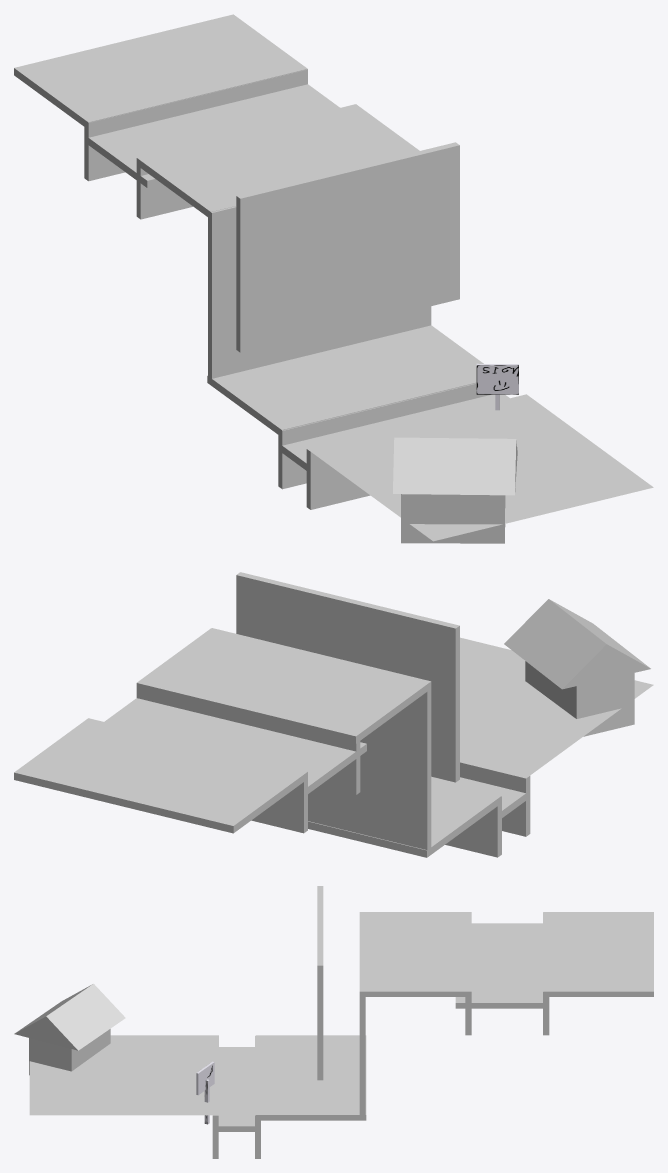
File: ExportedBlenderFBXFile.fbx
3 views of the same model, one above another, from view 1: azimuth 30°, elevation 25°; view 2: azimuth 150°, elevation 25°; view 3: azimuth 270°, elevation 25° (orthographic). The views are drawn at different scales.
Visible parts, largest first — view 1: Cube.005, Plane, Cube.010, Cube.003, Cube.006, Cube.004, Cube.007, Cylinder, Cube.011, Cube.008, Cube.001, Cube.002 (+3 smaller); view 2: Cube.006, Cube.010, Cube.005, Plane, Cube.004, Cube.007, Cylinder, Cube.003, Cube.011, Cube.009, Cube, Cube.001 (+2 smaller); view 3: Plane, Cube.010, Cube.006, Cube.003, Cube.007, Cylinder, Cube.002, Cube.011, Cube.005, Cube.004, Cube.012.
Part boxes in pixels (bbox=[...]): Cube.005: bbox=[236, 142, 459, 352]; Plane: bbox=[306, 394, 653, 541]; Cube.010: bbox=[14, 14, 307, 126]; Cube.003: bbox=[207, 325, 483, 434]; Cube.006: bbox=[136, 104, 419, 216]; Cube.004: bbox=[208, 206, 431, 378]; Cube.007: bbox=[84, 84, 339, 188]; Cylinder: bbox=[393, 437, 517, 495]; Cube.011: bbox=[401, 494, 505, 543]; Cube.008: bbox=[84, 69, 307, 181]; Cube.001: bbox=[278, 383, 490, 489]; Cube.002: bbox=[282, 394, 509, 470]; Cube.006: bbox=[136, 628, 430, 743]; Cube.010: bbox=[14, 718, 307, 833]; Cube.005: bbox=[236, 572, 459, 782]; Plane: bbox=[460, 637, 653, 777]; Cube.004: bbox=[211, 628, 431, 849]; Cube.007: bbox=[104, 698, 366, 796]; Cylinder: bbox=[504, 599, 650, 689]; Cube.003: bbox=[308, 779, 501, 857]; Cube.011: bbox=[525, 661, 634, 736]; Cube.009: bbox=[136, 690, 360, 794]; Cube: bbox=[460, 762, 530, 836]; Cube.001: bbox=[445, 796, 501, 857]; Plane: bbox=[29, 1035, 218, 1115]; Cube.010: bbox=[543, 912, 653, 996]; Cube.006: bbox=[361, 912, 471, 996]; Cube.003: bbox=[255, 1035, 366, 1120]; Cube.007: bbox=[455, 923, 547, 1008]; Cylinder: bbox=[14, 983, 125, 1050]; Cube.002: bbox=[213, 1047, 254, 1131]; Cube.011: bbox=[29, 1029, 110, 1075]; Cube.005: bbox=[317, 886, 323, 1080]; Cube.004: bbox=[359, 912, 365, 1119]; Cube.012: bbox=[196, 1061, 214, 1124].
Size of the model in its own units: 8.6 by 8.91 by 26.75.
